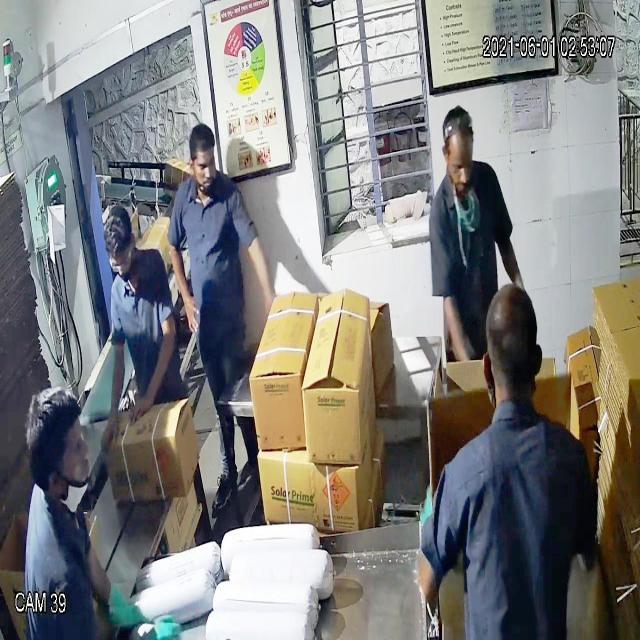glasses: (105, 238, 137, 279)
no-glass: (439, 147, 479, 181)
